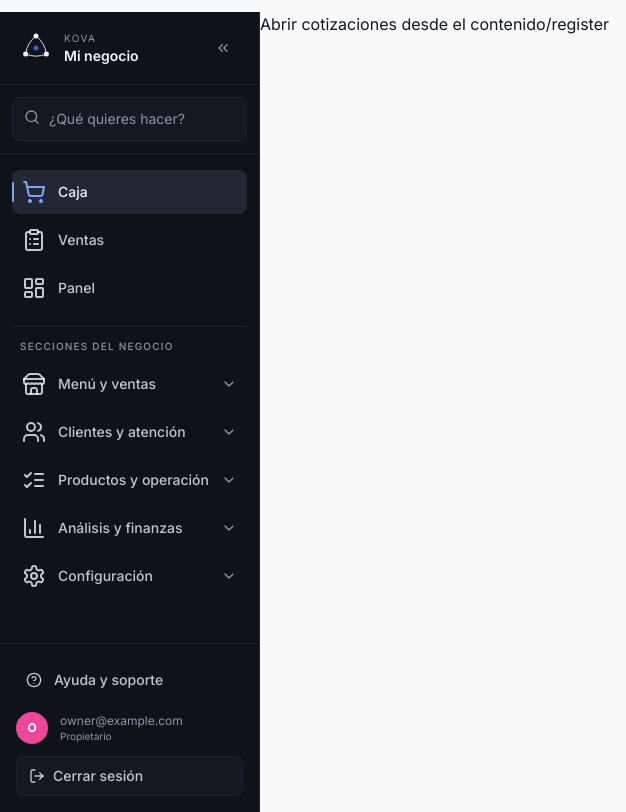
simple task navigation and complete discovery › matches accents and task descriptions, and Escape clears an empty-result search
Type "FACTURACIÓN" into the search field named "Buscar sección".
click(130, 119); type("FACTURACIÓN")  # box [12,97,247,141]
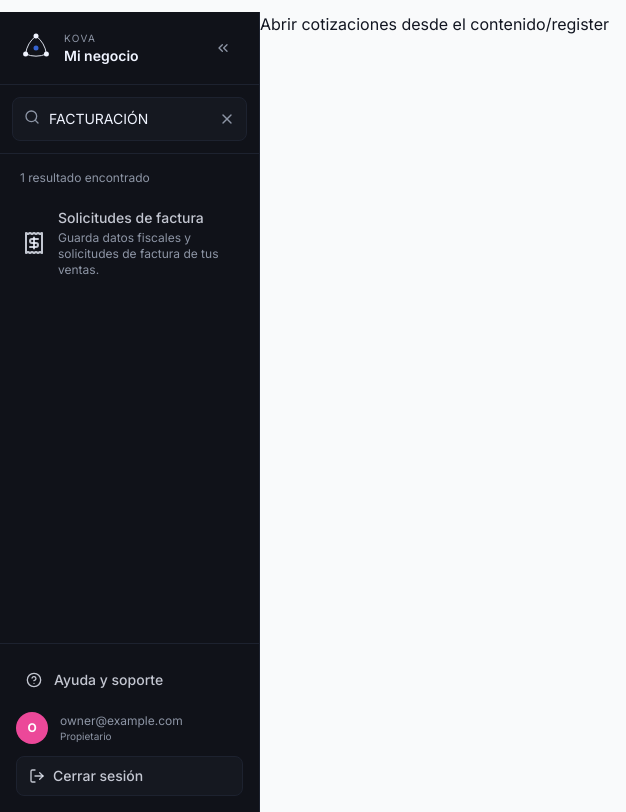
Replace the text in the search field named "Buscar sección" with "¿Qué vendo?" at (130, 119), box [12,97,247,141]
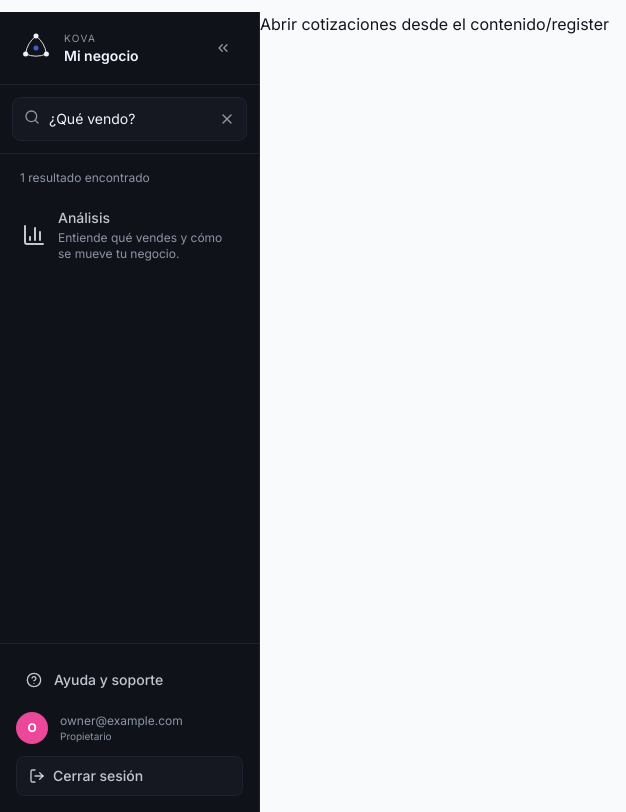
Now the link "Análisis" has attribute href="/reports", box [12,198,247,272]
Replace the text in the search field named "Buscar sección" with "inexistente" at (130, 119), box [12,97,247,141]
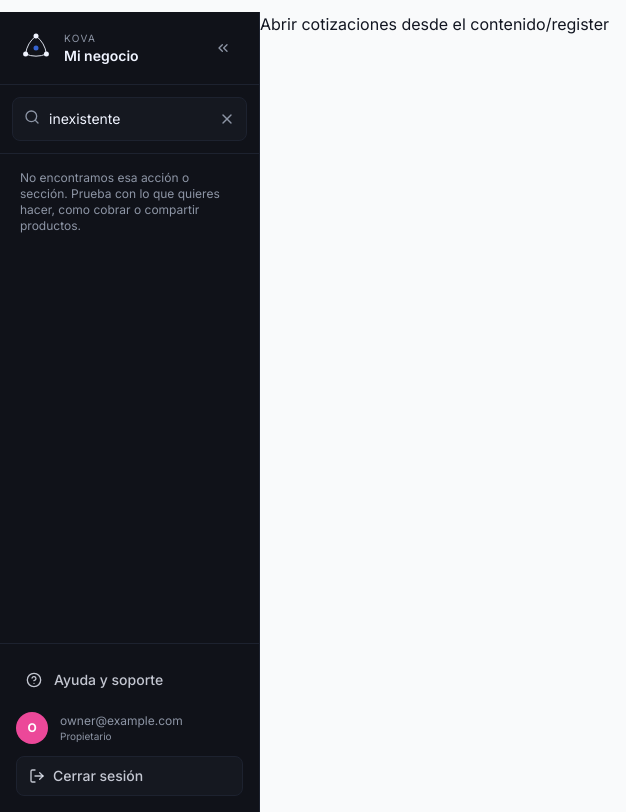
Now no the link "Análisis Entiende qué vendes y cómo se mueve tu negocio." are shown
Now the message shows "No encontramos esa acción o sección", box [20,170,220,233]
Press Escape in the search field named "Buscar sección", box [12,97,247,141]
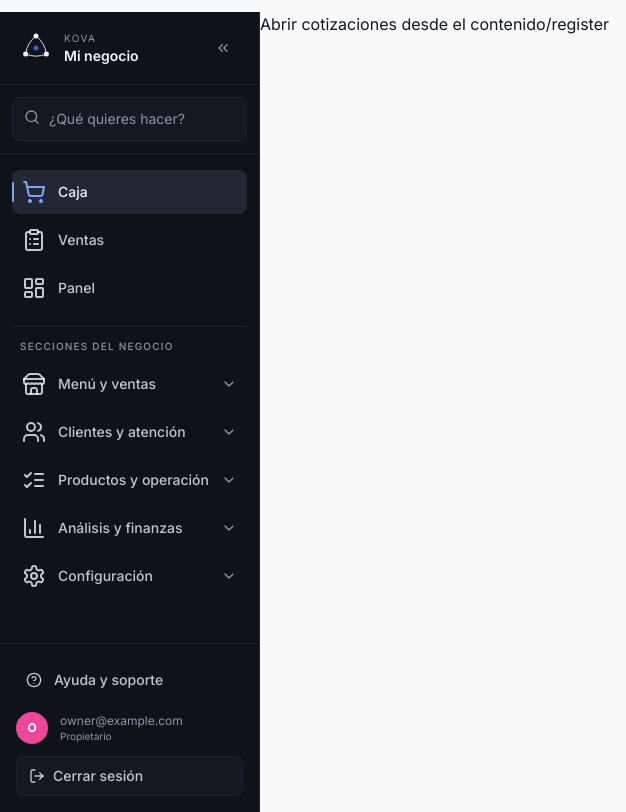
Now the search field named "Buscar sección" is empty, box [12,97,247,141]
Now the link "Caja" is shown, box [12,170,247,214]
